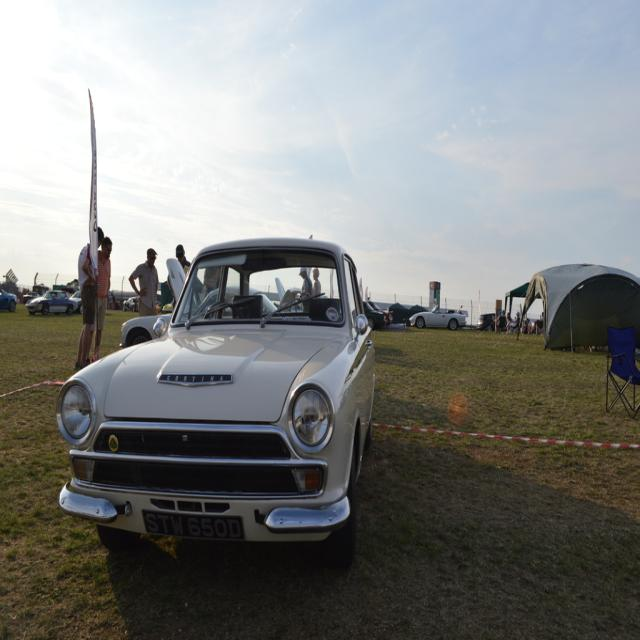car: (58, 233, 378, 560), (408, 303, 467, 329), (25, 289, 73, 308)
